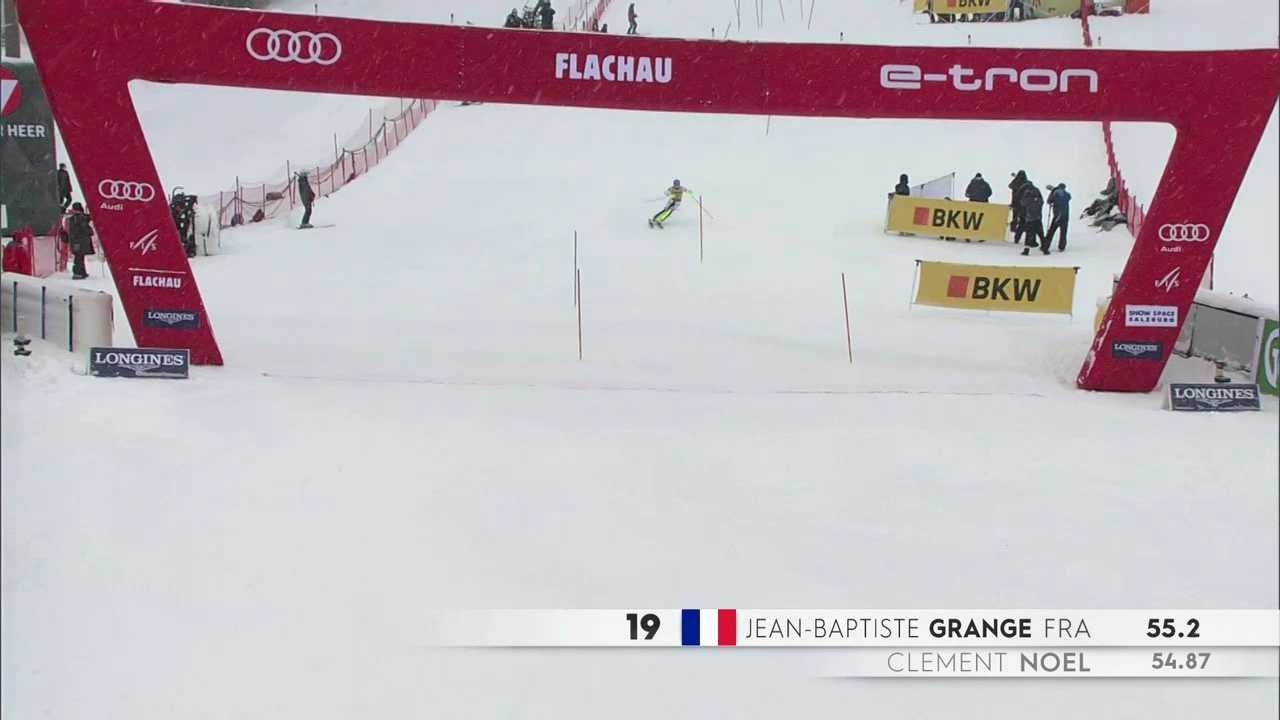audi: (243, 26, 348, 70), (98, 178, 158, 207), (1158, 220, 1214, 249)
etron: (876, 62, 1091, 100)
flachau: (554, 46, 678, 92)
longines: (93, 350, 191, 380), (1173, 387, 1262, 414)
